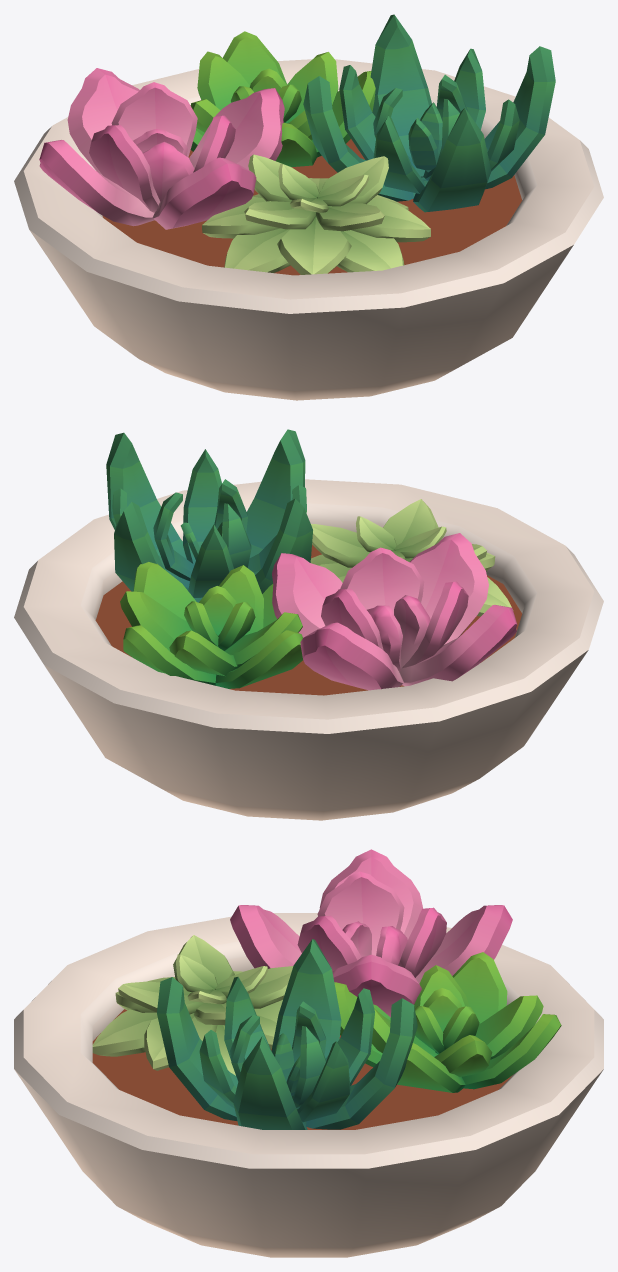
The model's file is plant_succulent.glb.
3 renders of one model, top to bottom at view 1: azimuth 30°, elevation 25°; view 2: azimuth 150°, elevation 25°; view 3: azimuth 270°, elevation 25°, orthographic.
Parts seen in each view (by area): view 1: succulent_plant_pot_large; view 2: succulent_plant_pot_large; view 3: succulent_plant_pot_large.
Part boxes in pixels (x1,y1,x2,y2): succulent_plant_pot_large: (14,14,603,400); succulent_plant_pot_large: (14,429,603,820); succulent_plant_pot_large: (14,849,603,1257).
Size of the model in its own units: 1.49 by 0.6801 by 1.49.
Materials: 1 (1 with a texture image).
